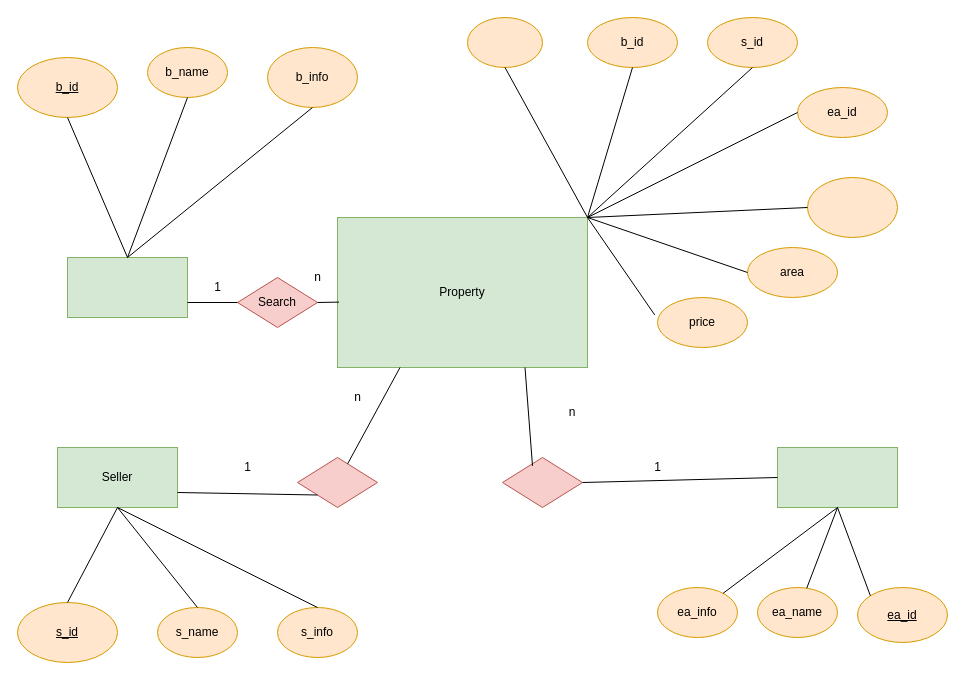
Image size: 965x680. Some labels were removed from this diagram. Here are the shapes that lost their labels. From the top down, the centre of each, then its label:
point (504, 42): p_id
point (852, 207): p_type
point (127, 287): Buyer
point (337, 482): upload
point (542, 482): Handles
point (837, 477): Estate Agent
